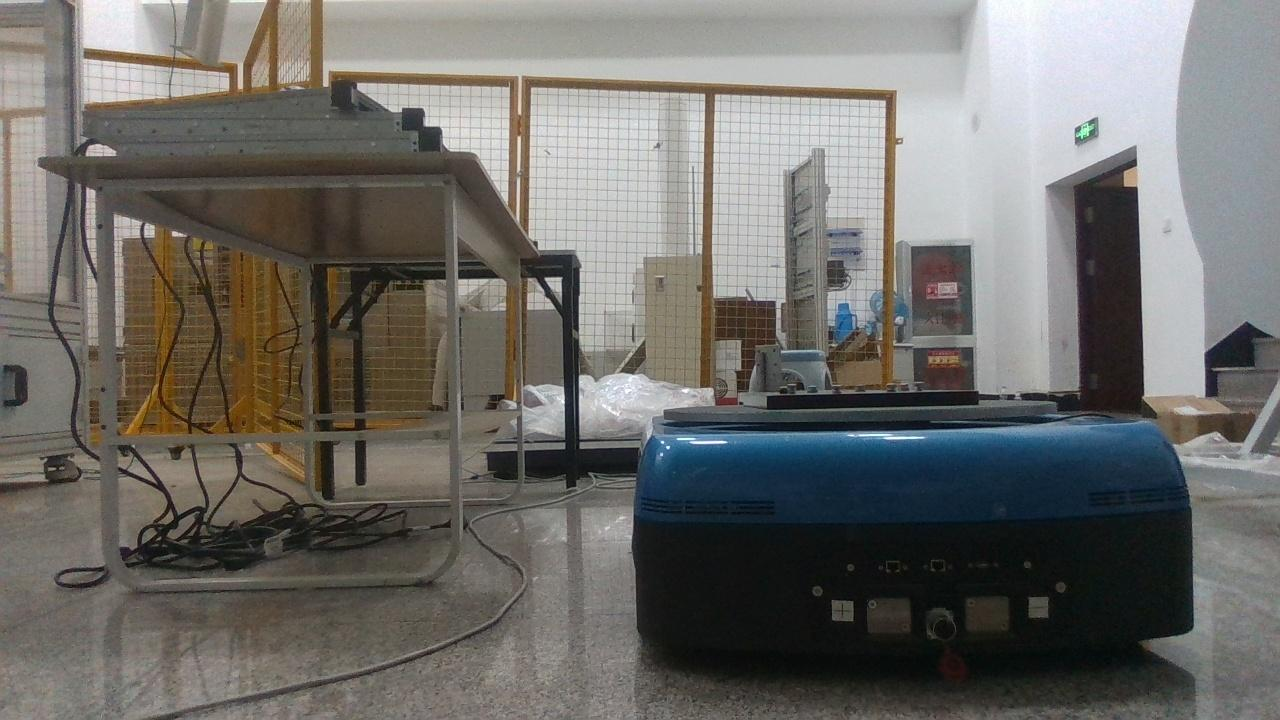AGV: (632, 390, 1195, 680)
